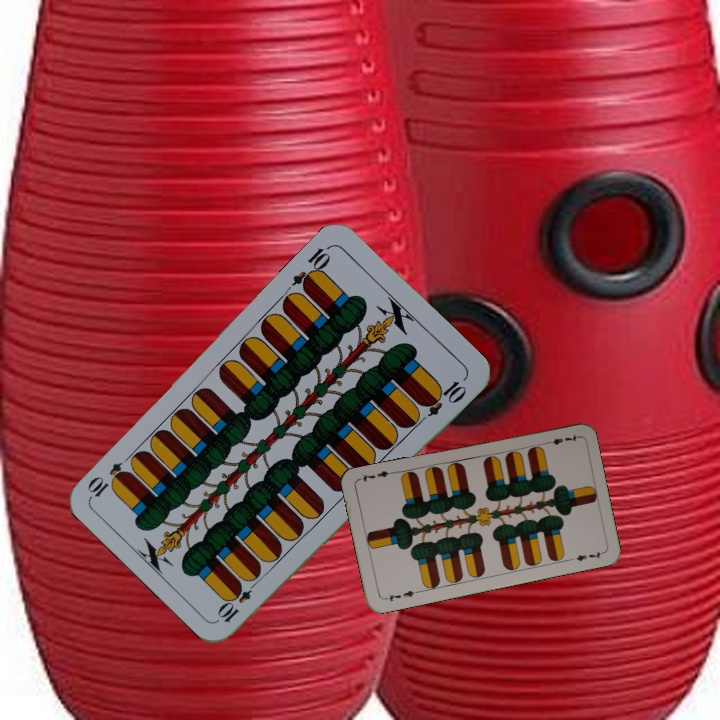E10: (214, 574, 262, 625), (288, 241, 334, 294)
E7: (380, 586, 420, 604), (540, 431, 580, 447)
